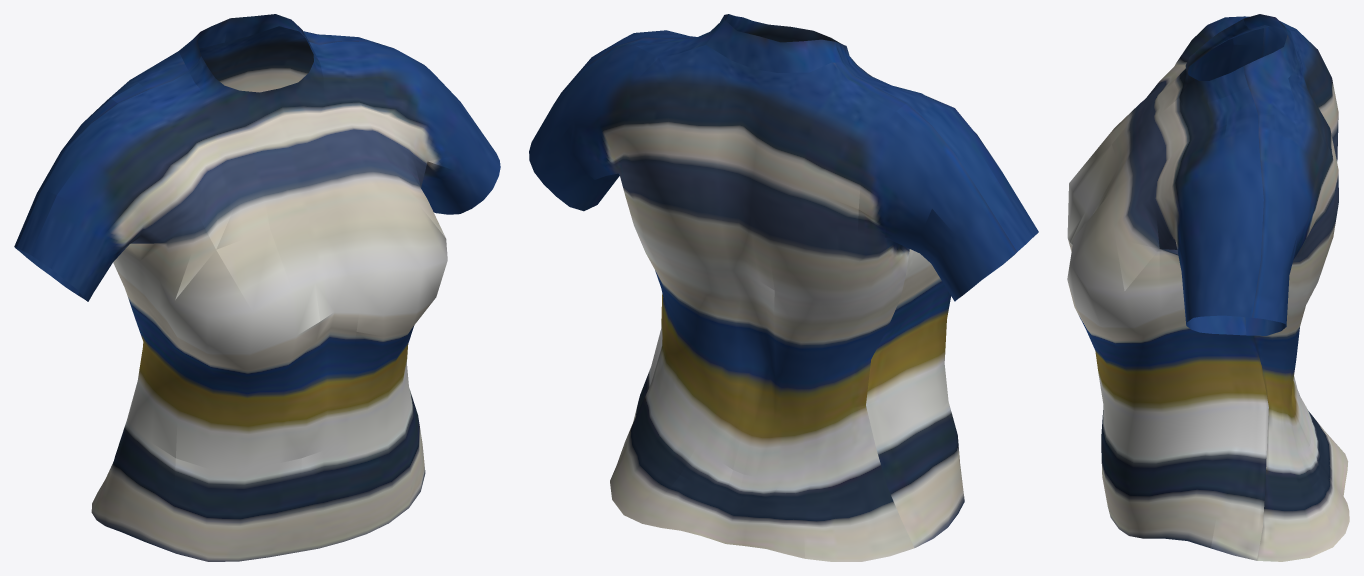
File: TL_SMF.dae
3 renders of one model, left to right at view 1: azimuth 30°, elevation 25°; view 2: azimuth 150°, elevation 25°; view 3: azimuth 270°, elevation 25°, orthographic. The views are drawn at different scales.
Parts seen in each view (by area): view 1: TL; view 2: TL; view 3: TL.
Part boxes in pixels (bbox=[...]): TL: bbox=[14, 14, 500, 561]; TL: bbox=[529, 14, 1038, 561]; TL: bbox=[1067, 14, 1349, 561].
Size of the model in its own units: 5.36 by 5.11 by 2.83.
